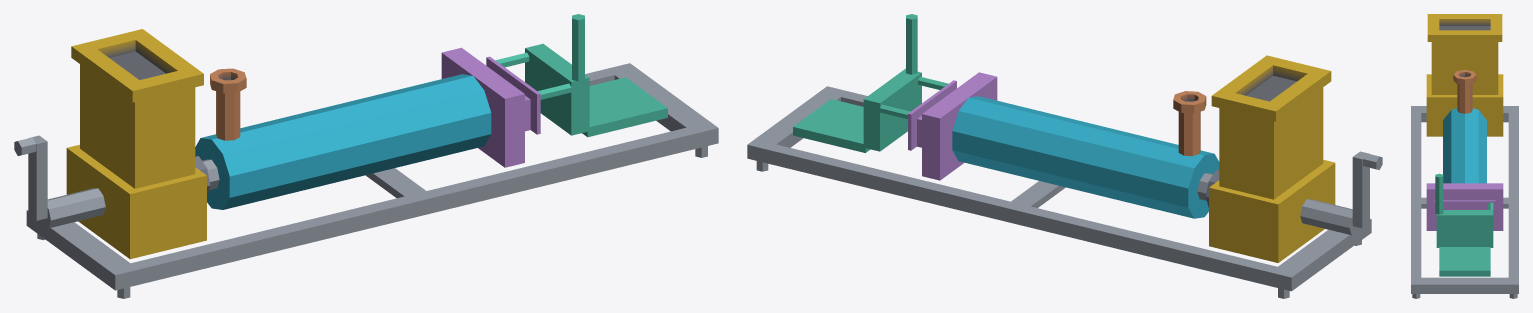
The model's file is stage-0.gltf.
3 views of the same model, side by side, from view 1: azimuth 30°, elevation 25°; view 2: azimuth 150°, elevation 25°; view 3: azimuth 270°, elevation 25° (orthographic). The views are drawn at different scales.
Parts seen in each view (by area): view 1: SYS-BCA-STAGE-0; view 2: SYS-BCA-STAGE-0; view 3: SYS-BCA-STAGE-0.
Boxes of the visible parts, box(x1,y1,x2,y2) form: SYS-BCA-STAGE-0: box(14, 14, 718, 298); SYS-BCA-STAGE-0: box(747, 14, 1382, 298); SYS-BCA-STAGE-0: box(1411, 14, 1518, 298).
Size of the model in its own units: 359 by 101 by 84.
